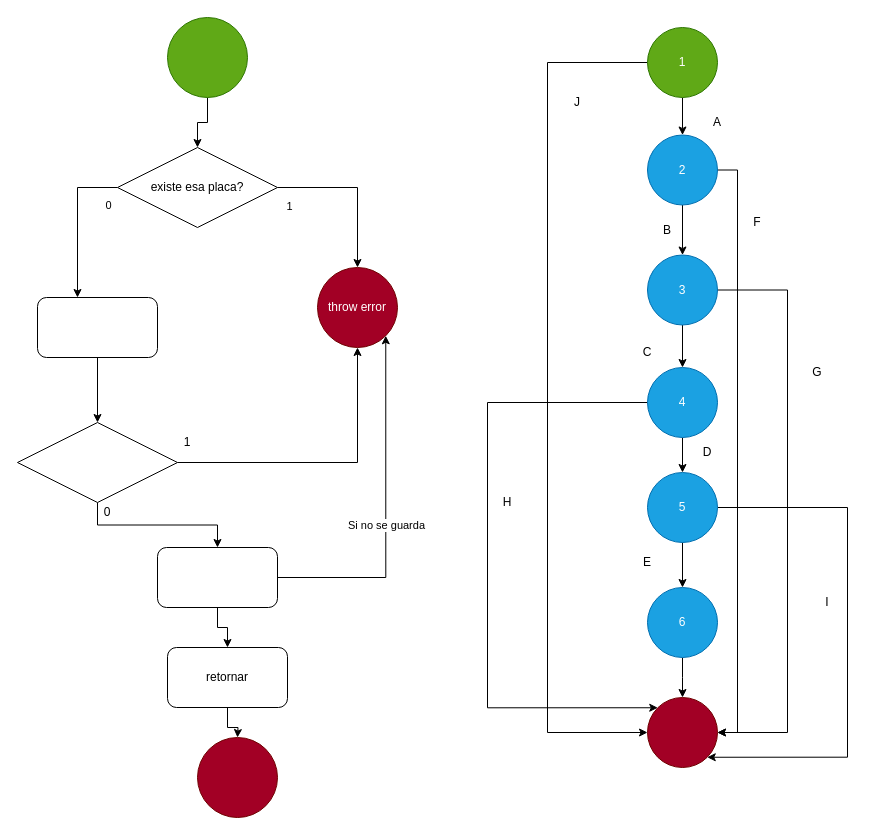
Some shapes in this 875 by 835 pixel diagram are drawn without their labels. Each missing label, with the centre of its shape:
"buscar tipo de vehiculo" belongs at [97,327].
"buscar vehiculo por placa" belongs at [207,57].
"crear vehiculo" belongs at [217,577].
"existe tipo de vehiculo ?" belongs at [97,462].
"FIN" belongs at [237,777].
